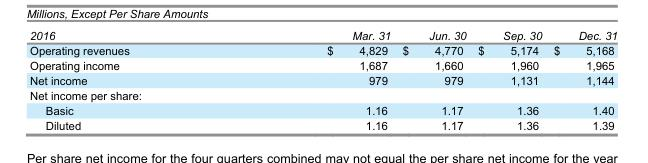table: (29, 28, 616, 131)
table column: (29, 28, 227, 131), (227, 28, 395, 131), (395, 28, 471, 131), (471, 28, 547, 131), (547, 28, 616, 131)
table column header: (29, 28, 616, 42)
table projected row header: (29, 87, 616, 102)
table row: (29, 42, 616, 57), (29, 57, 616, 72), (29, 72, 616, 87), (29, 87, 616, 102), (29, 102, 616, 117), (29, 28, 616, 42), (29, 117, 616, 131)
